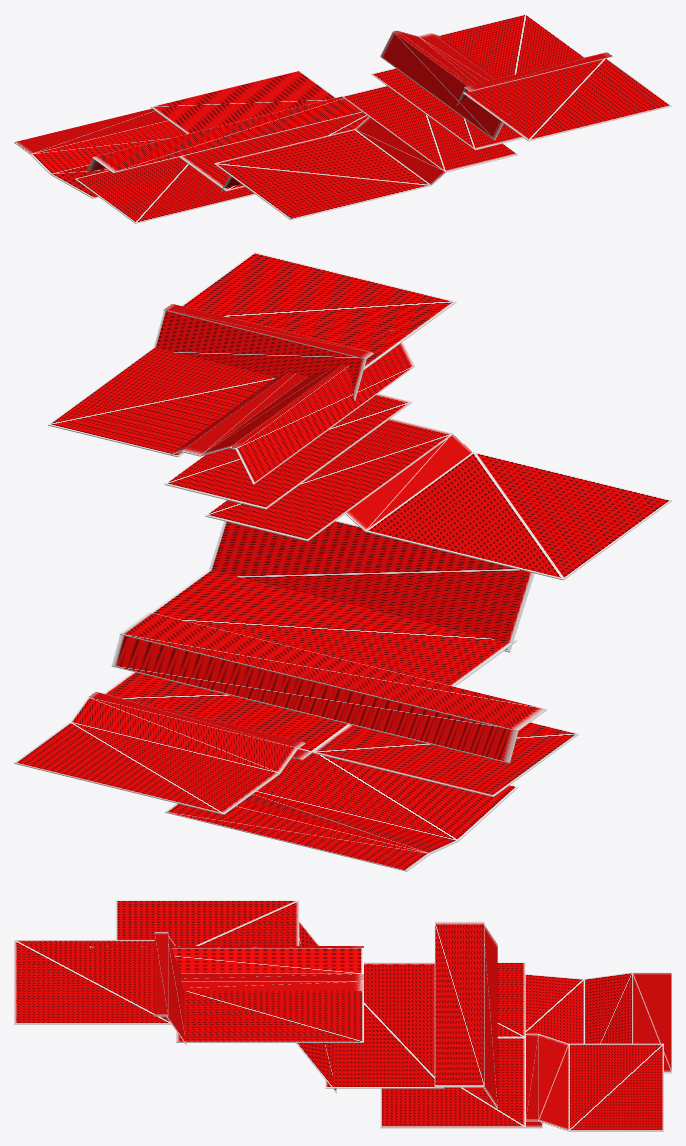
Rendered from Killplanes.obj.
The picture shows the model from 3 angles, top to bottom: view 1: azimuth 30°, elevation 25°; view 2: azimuth 150°, elevation 25°; view 3: azimuth 270°, elevation 25°; orthographic projection. The views are drawn at different scales.
Bounding box in the file's own units: 18300 × 7150 × 22722.
Materials: 1 (1 with a texture image).
